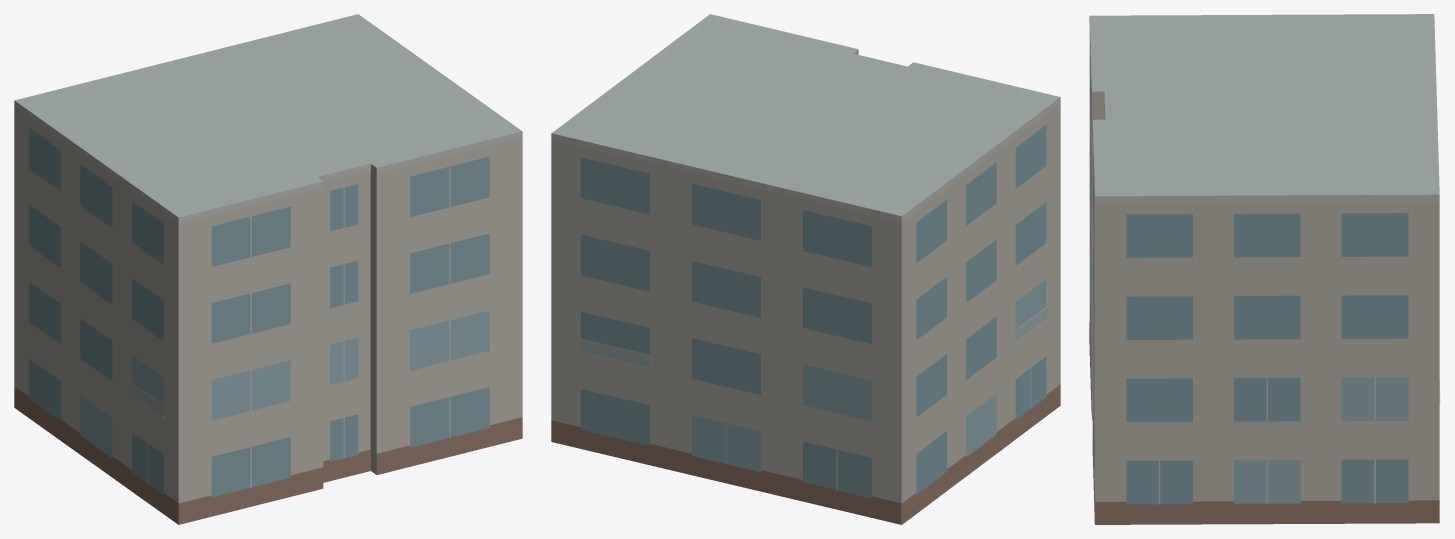
File: survey-upis-32671019.glb
3 renders of one model, left to right at view 1: azimuth 30°, elevation 25°; view 2: azimuth 150°, elevation 25°; view 3: azimuth 270°, elevation 25°, orthographic. The views are drawn at different scales.
Parts seen in each view (by area): view 1: survey-upis-32671019.tmp; view 2: survey-upis-32671019.tmp; view 3: survey-upis-32671019.tmp.
Part boxes in pixels (x1,y1,x2,y2): survey-upis-32671019.tmp: (14, 14, 522, 524); survey-upis-32671019.tmp: (551, 14, 1060, 524); survey-upis-32671019.tmp: (1089, 14, 1440, 524).
Bounding box in the file's own units: 14.17 × 11.9 × 11.52.
